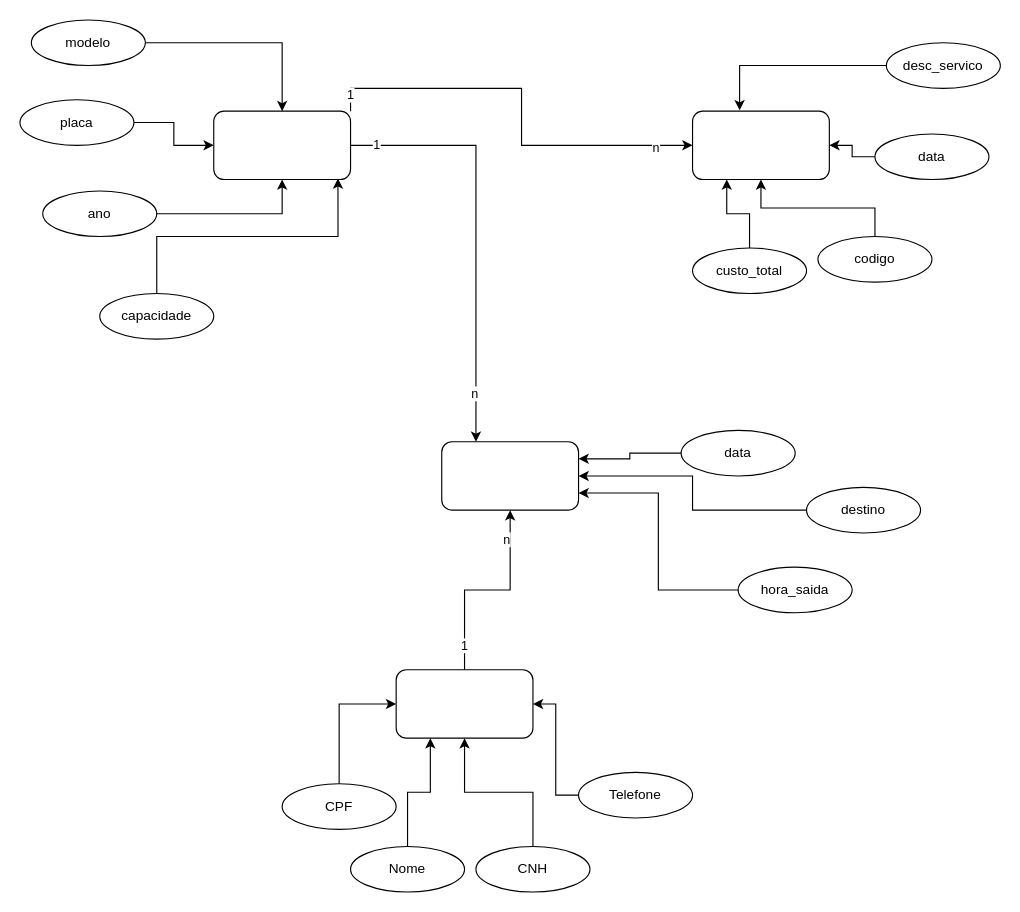
The diagram is 1020 pixels wide and 912 high, and some of its shapes have lost their labels. Each missing label, with the centre of its shape:
Manutenção: (760,145)
Motorista: (464,703)
Veiculo: (282,145)
Viagem: (510,475)
